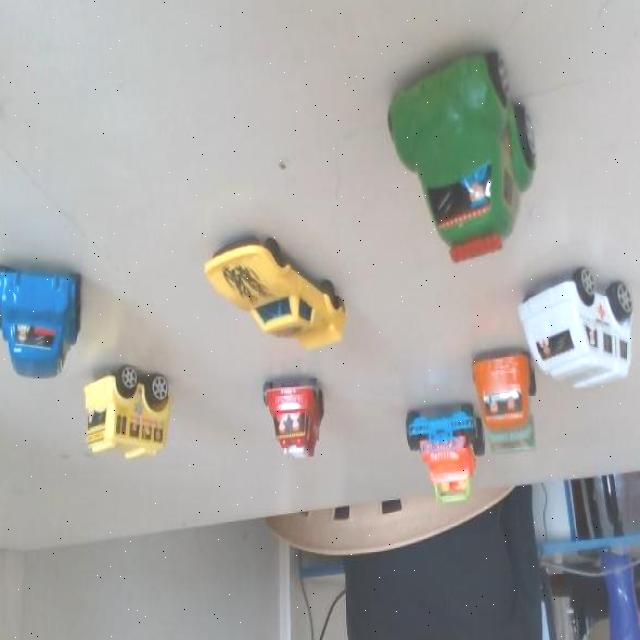car: (393, 67, 551, 257), (200, 221, 356, 364), (516, 252, 640, 406), (0, 248, 89, 388), (392, 403, 480, 515), (89, 356, 181, 463), (470, 344, 542, 470), (262, 364, 338, 471)
